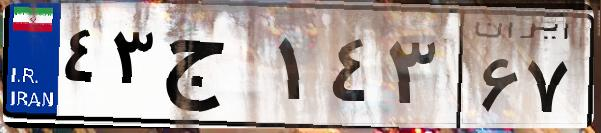1: (270, 28, 330, 110)
3: (385, 28, 445, 110), (110, 28, 158, 98)
4: (330, 28, 385, 110), (57, 26, 110, 100)
6: (475, 38, 525, 113)
7: (525, 38, 570, 115)
ج: (158, 20, 270, 120)
